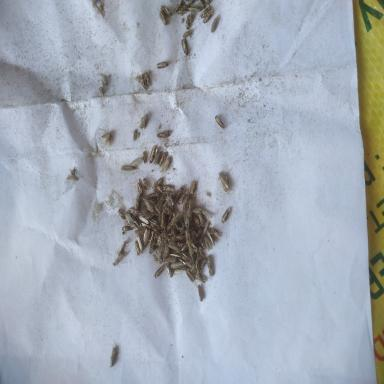pbw: (202, 4, 216, 24), (170, 208, 183, 226), (112, 251, 127, 266), (154, 262, 168, 278), (160, 156, 172, 174), (194, 281, 204, 302), (191, 227, 204, 243), (142, 198, 155, 214), (156, 151, 167, 169), (185, 267, 196, 285), (173, 186, 184, 204), (185, 238, 198, 253), (206, 256, 214, 280), (148, 145, 158, 164), (219, 172, 228, 193), (120, 165, 140, 174), (157, 7, 167, 25), (221, 206, 231, 224), (157, 58, 169, 73), (210, 14, 219, 33), (101, 131, 113, 145), (214, 115, 225, 130), (152, 178, 163, 193), (167, 241, 181, 252), (204, 235, 213, 252), (188, 178, 196, 197), (134, 191, 142, 210), (152, 151, 162, 166), (132, 241, 142, 256), (139, 114, 149, 129), (181, 38, 188, 59), (162, 243, 170, 261), (178, 189, 187, 205), (110, 345, 116, 368), (207, 229, 215, 246), (143, 228, 150, 247), (136, 213, 148, 224), (200, 6, 211, 18), (162, 184, 175, 194), (174, 0, 184, 13), (184, 198, 192, 214), (195, 274, 211, 282), (202, 221, 210, 237), (165, 262, 173, 278), (153, 250, 162, 264), (139, 76, 148, 90), (117, 240, 126, 254), (161, 5, 172, 16), (135, 225, 147, 235), (178, 242, 188, 254), (136, 235, 143, 251), (146, 192, 160, 200), (170, 262, 186, 269), (198, 258, 208, 269), (174, 265, 186, 274), (160, 212, 166, 230), (182, 29, 194, 38), (149, 224, 164, 231), (185, 14, 192, 29), (172, 234, 187, 241), (126, 212, 134, 225), (148, 229, 154, 246), (137, 179, 143, 196), (210, 228, 220, 238), (202, 209, 213, 218), (131, 157, 142, 166), (156, 131, 170, 138), (145, 71, 151, 87), (195, 259, 201, 275), (199, 238, 207, 250), (186, 5, 200, 11), (178, 8, 188, 16), (198, 244, 204, 257), (142, 178, 148, 191), (164, 258, 177, 264), (149, 240, 155, 253), (122, 225, 135, 231), (142, 223, 153, 230), (129, 209, 141, 215), (192, 215, 200, 224), (157, 185, 165, 194), (157, 232, 162, 246), (192, 6, 197, 20), (192, 207, 203, 213), (142, 152, 147, 164), (118, 209, 124, 219), (133, 129, 137, 141), (199, 0, 204, 9)
